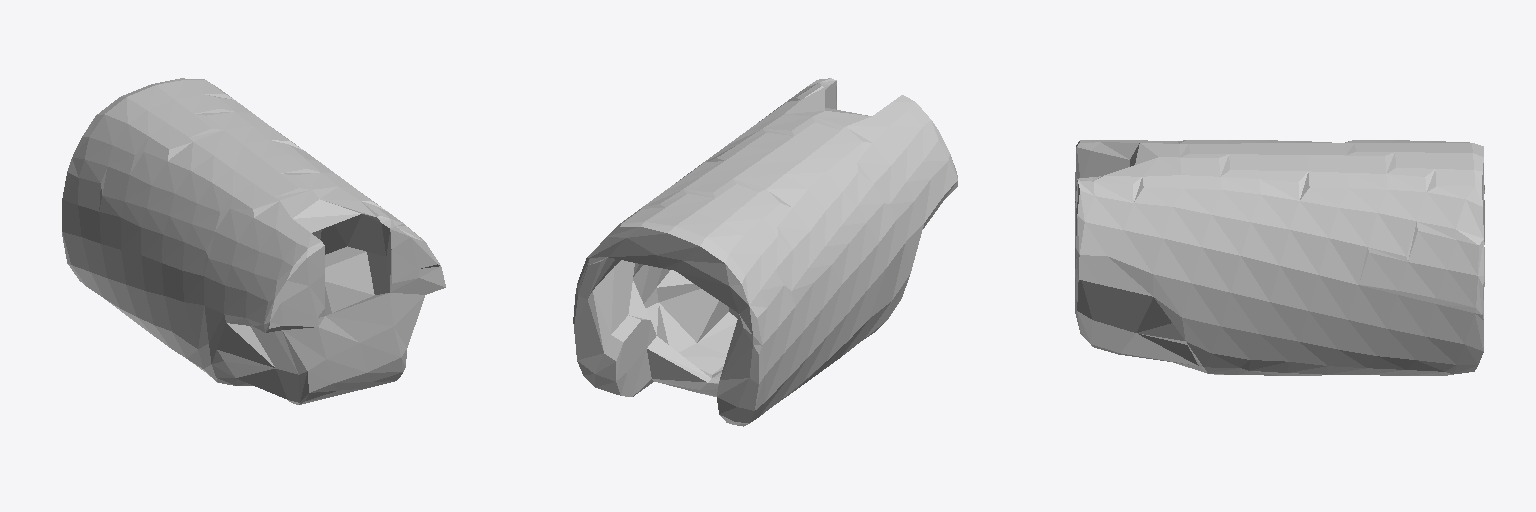
The model's file is sim_ecub_l_hand_pinkie_1.obj.
3 renders of one model, left to right at view 1: azimuth 30°, elevation 25°; view 2: azimuth 150°, elevation 25°; view 3: azimuth 270°, elevation 25°, orthographic.
Size of the model in its own units: 16.98 by 17.22 by 31.5.